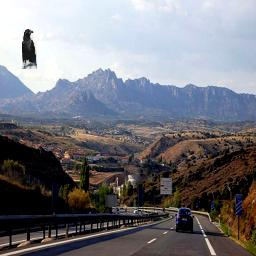Crow: (22, 29, 37, 69)
